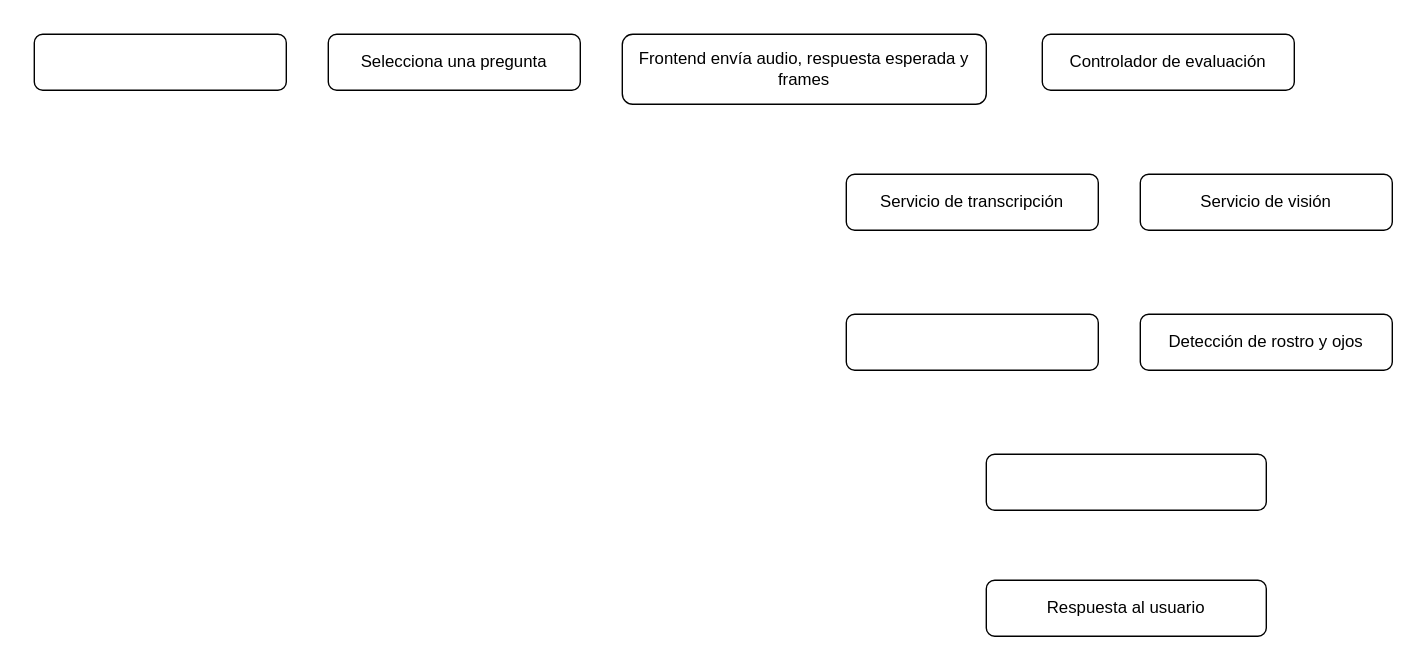
Some shapes in this 1417 by 661 pixel diagram are drawn without their labels. Each missing label, with the centre of its shape:
Resultado y persistencia: [1125,481]
Servicio evaluador: [971,341]
Usuario inicia la evaluación: [159,61]
